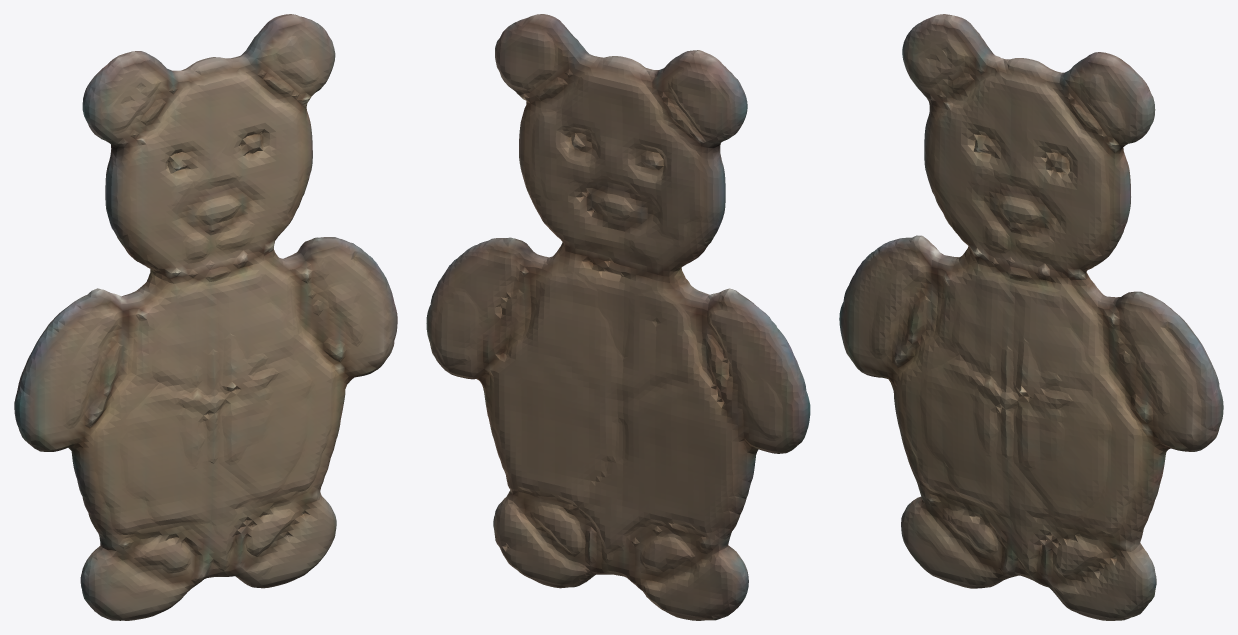
3 views of the same model, side by side, from view 1: azimuth 30°, elevation 25°; view 2: azimuth 150°, elevation 25°; view 3: azimuth 330°, elevation 25° (orthographic).
Visible parts, largest first — view 1: geometry_0; view 2: geometry_0; view 3: geometry_0.
Boxes of the visible parts, x1,y1,x2,y2 form: geometry_0: (14,14,397,620); geometry_0: (426,14,810,620); geometry_0: (839,14,1223,620).
Size of the model in its own units: 0.6988 by 1 by 0.0894.
